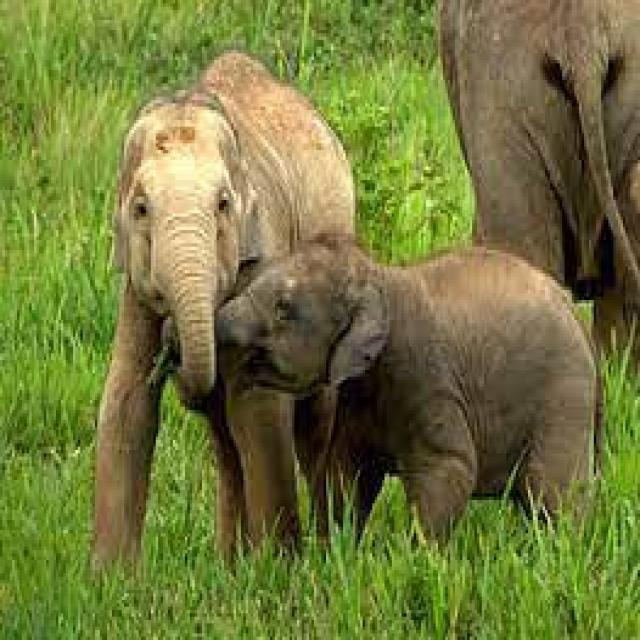Elephant: (99, 49, 362, 564), (206, 241, 607, 539)
